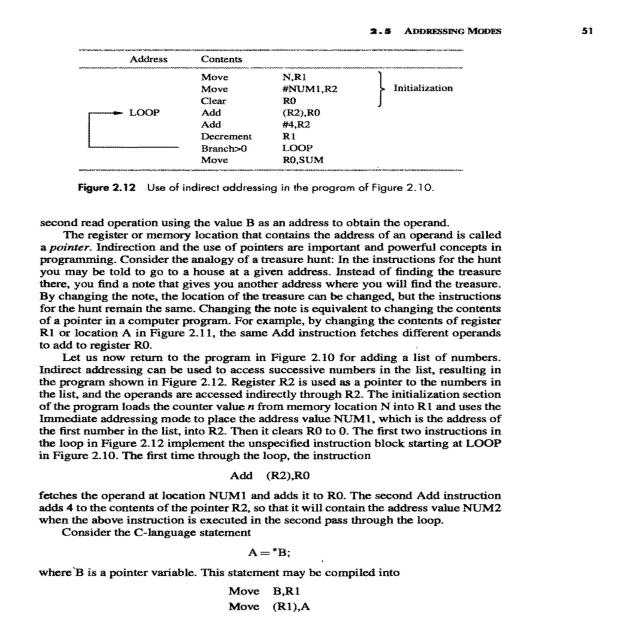diagram: (52, 22, 525, 197)
